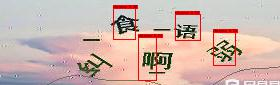chinese: (203, 38, 244, 64), (139, 48, 176, 73), (79, 52, 112, 79), (111, 11, 140, 35), (175, 24, 199, 40)
